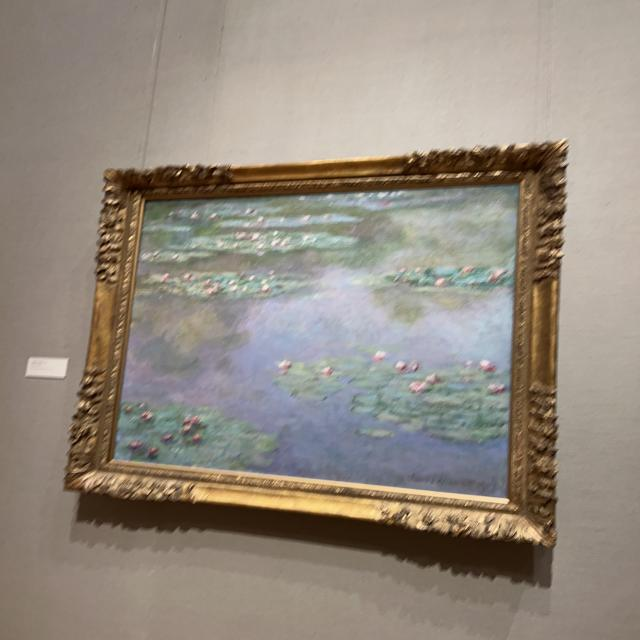lilies: (114, 184, 516, 498)
